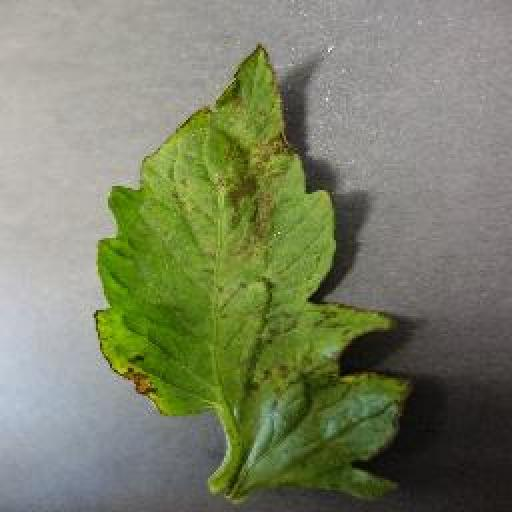Bacterial Spot: (83, 34, 420, 512)
